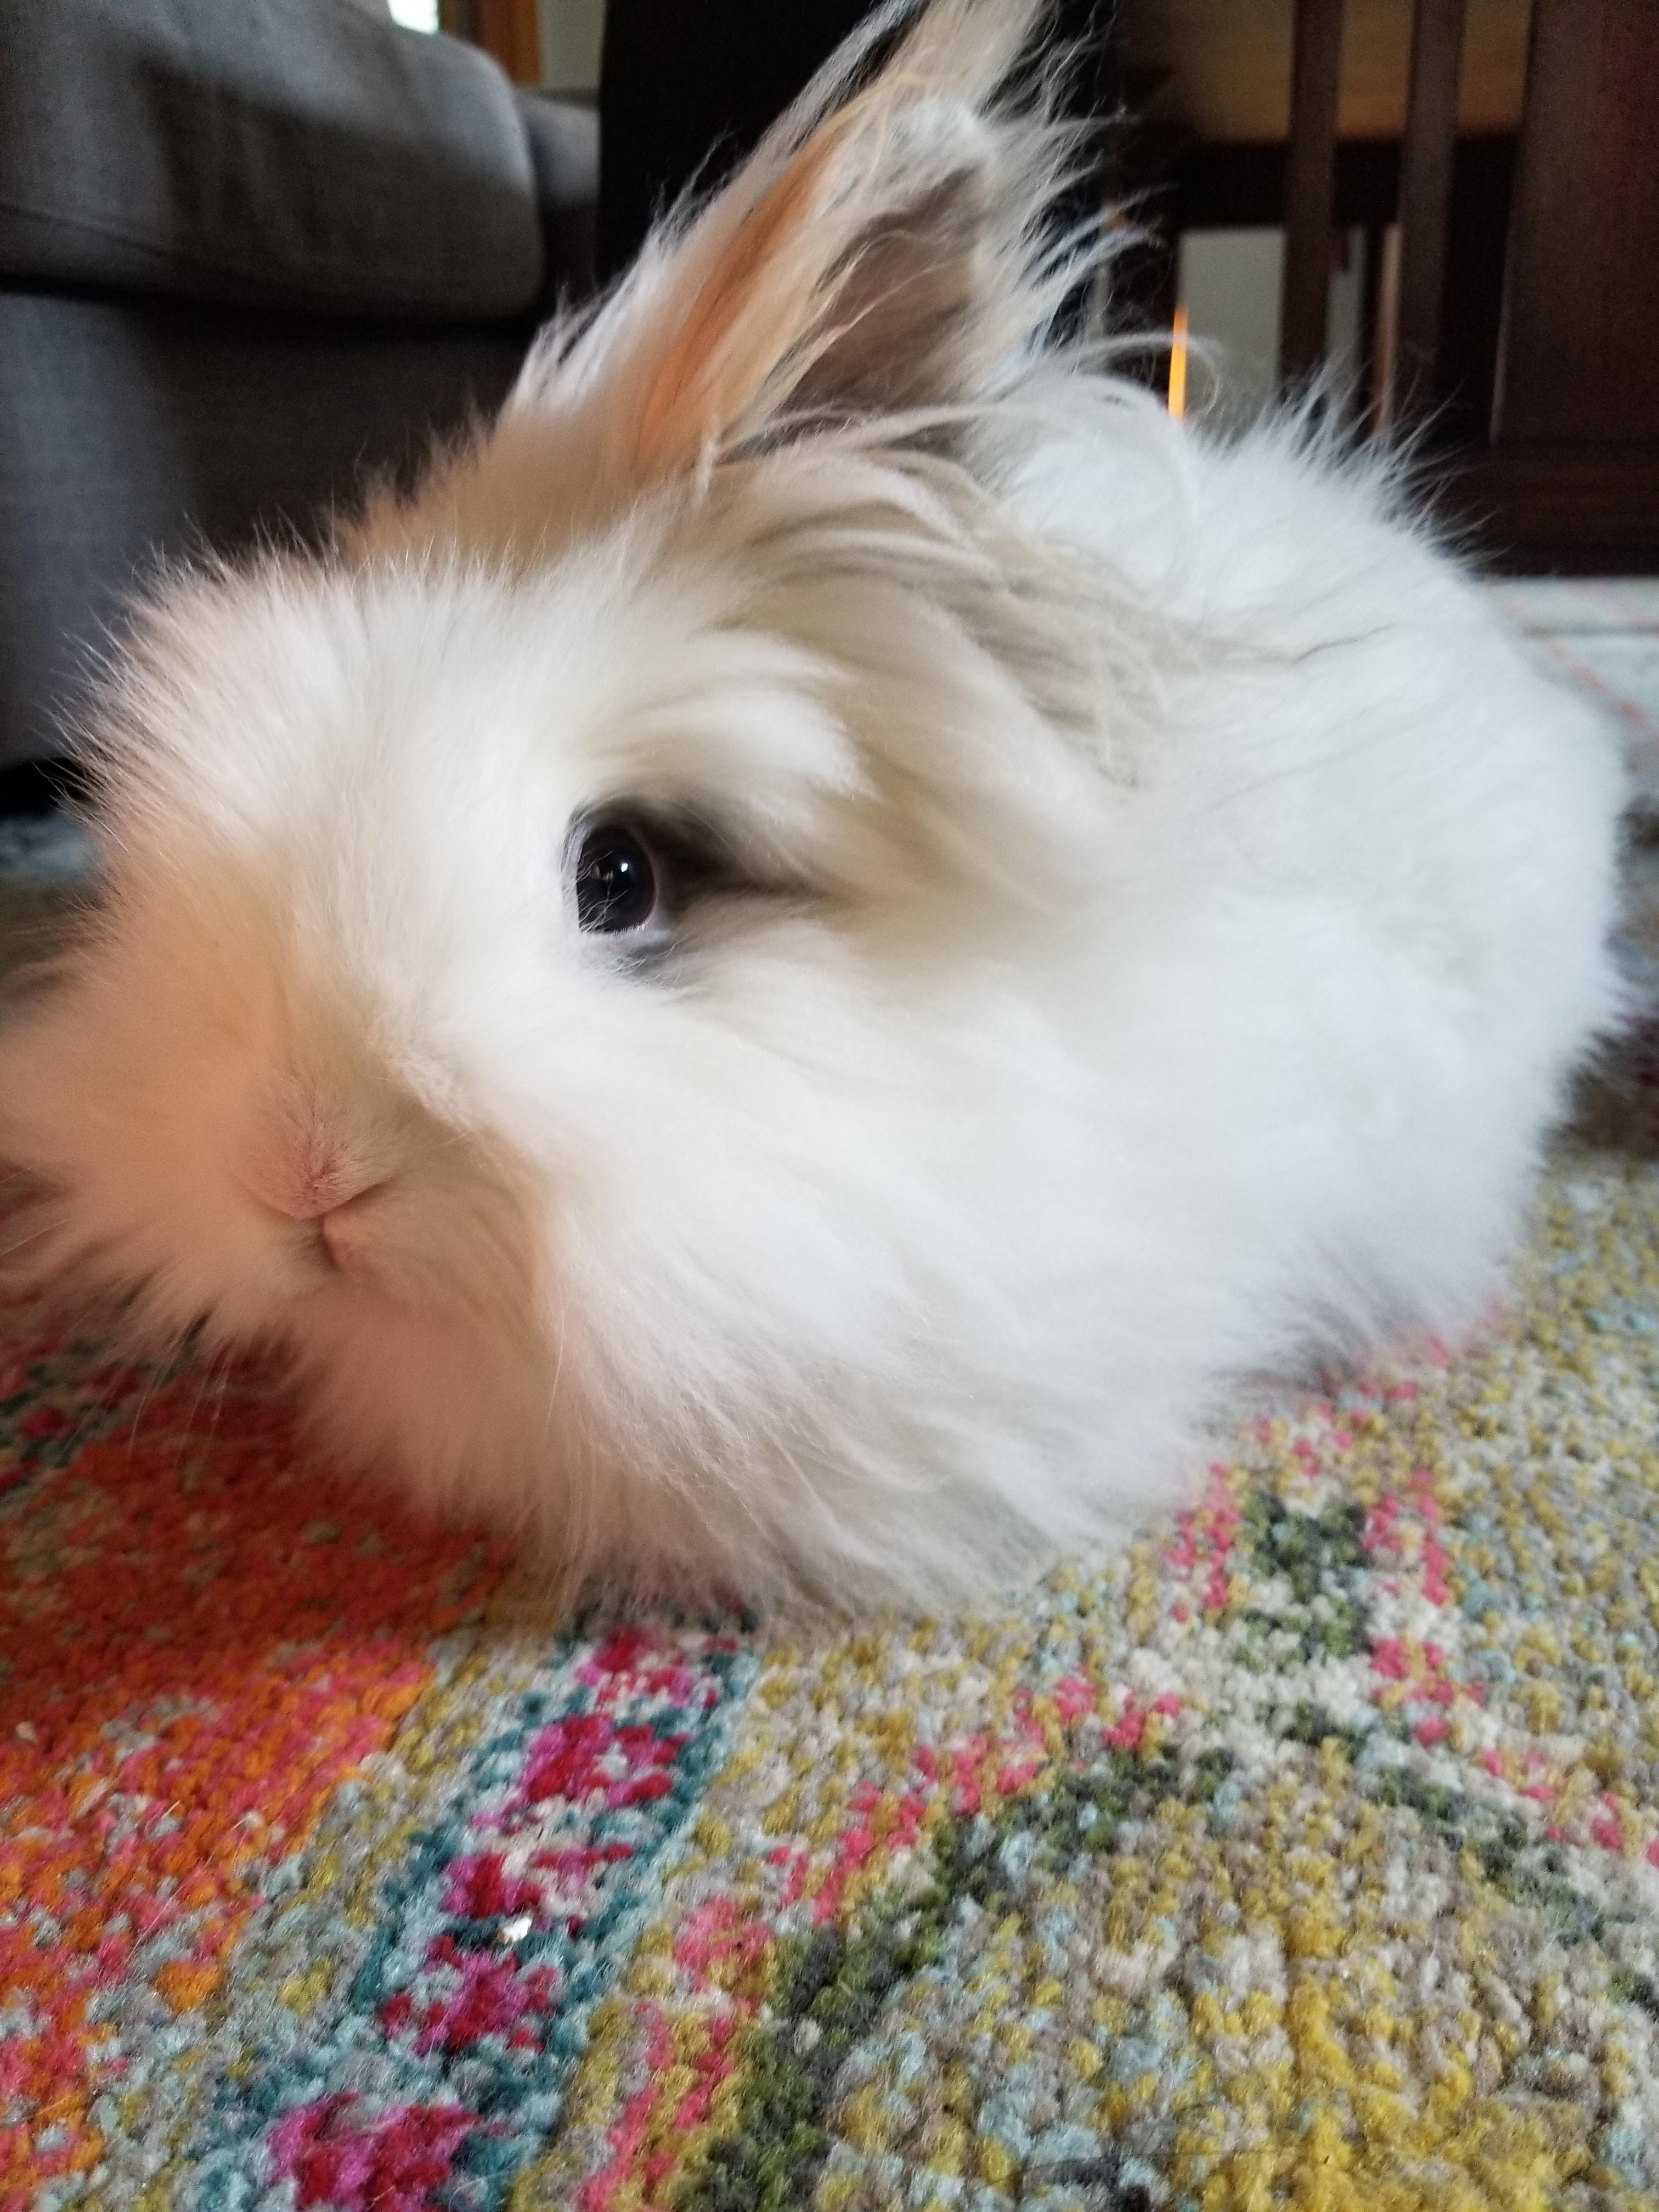bunny: (2, 5, 1649, 1667)
